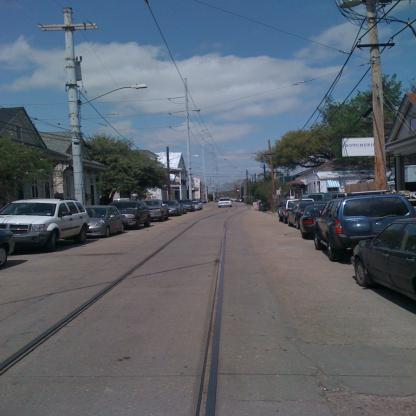Car: (276, 190, 416, 303), (0, 196, 206, 268)
